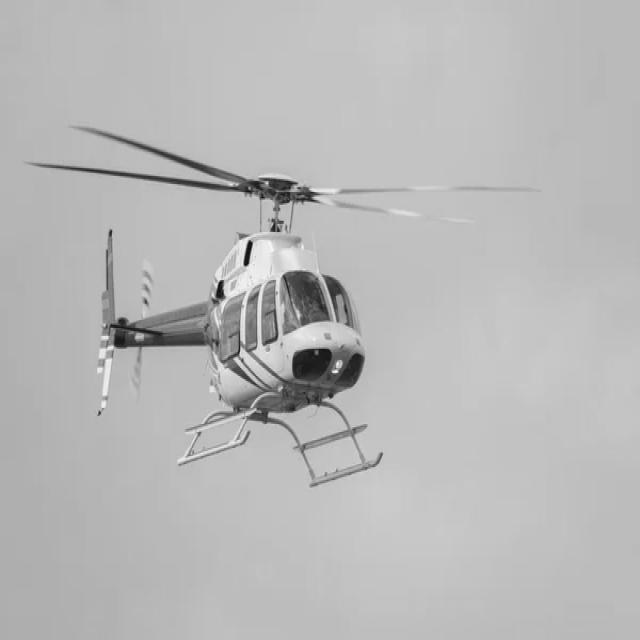Helicopter: (30, 125, 537, 487)
